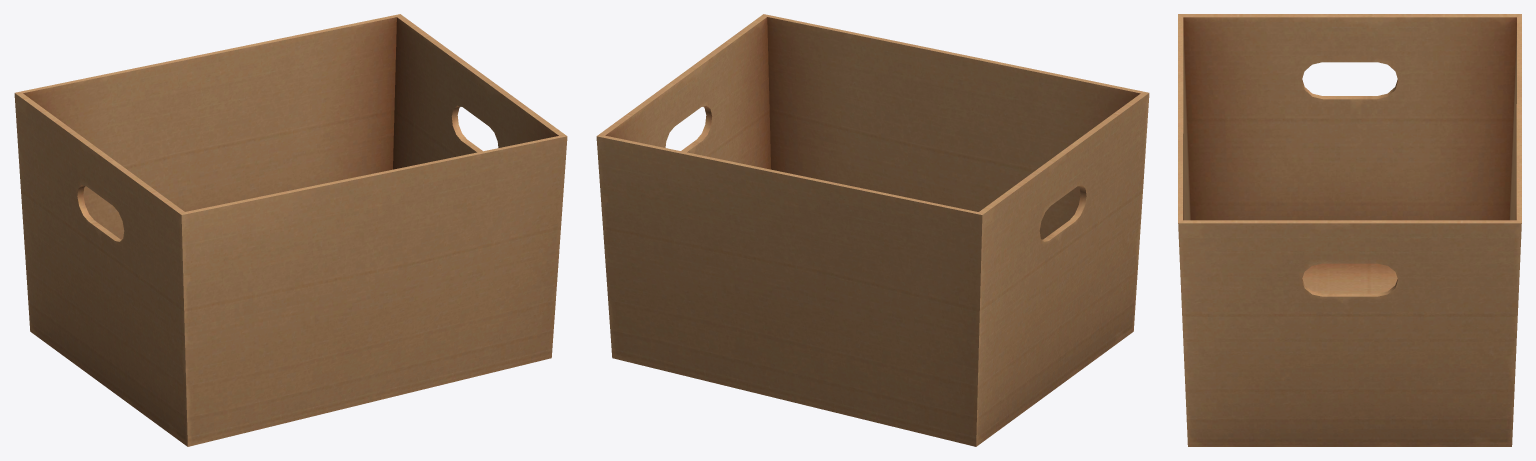
File: OfficeBox01__2.fbx
3 views of the same model, side by side, from view 1: azimuth 30°, elevation 25°; view 2: azimuth 150°, elevation 25°; view 3: azimuth 270°, elevation 25° (orthographic). The views are drawn at different scales.
Visible parts, largest first — view 1: OfficeBox01A; view 2: OfficeBox01A; view 3: OfficeBox01A.
Boxes of the visible parts, x1,y1,x2,y2 form: OfficeBox01A: (14, 14, 567, 446); OfficeBox01A: (596, 14, 1149, 446); OfficeBox01A: (1178, 14, 1521, 446).
Size of the model in its own units: 0.4241 by 0.25 by 0.3181.
1 material, 1 textured.
